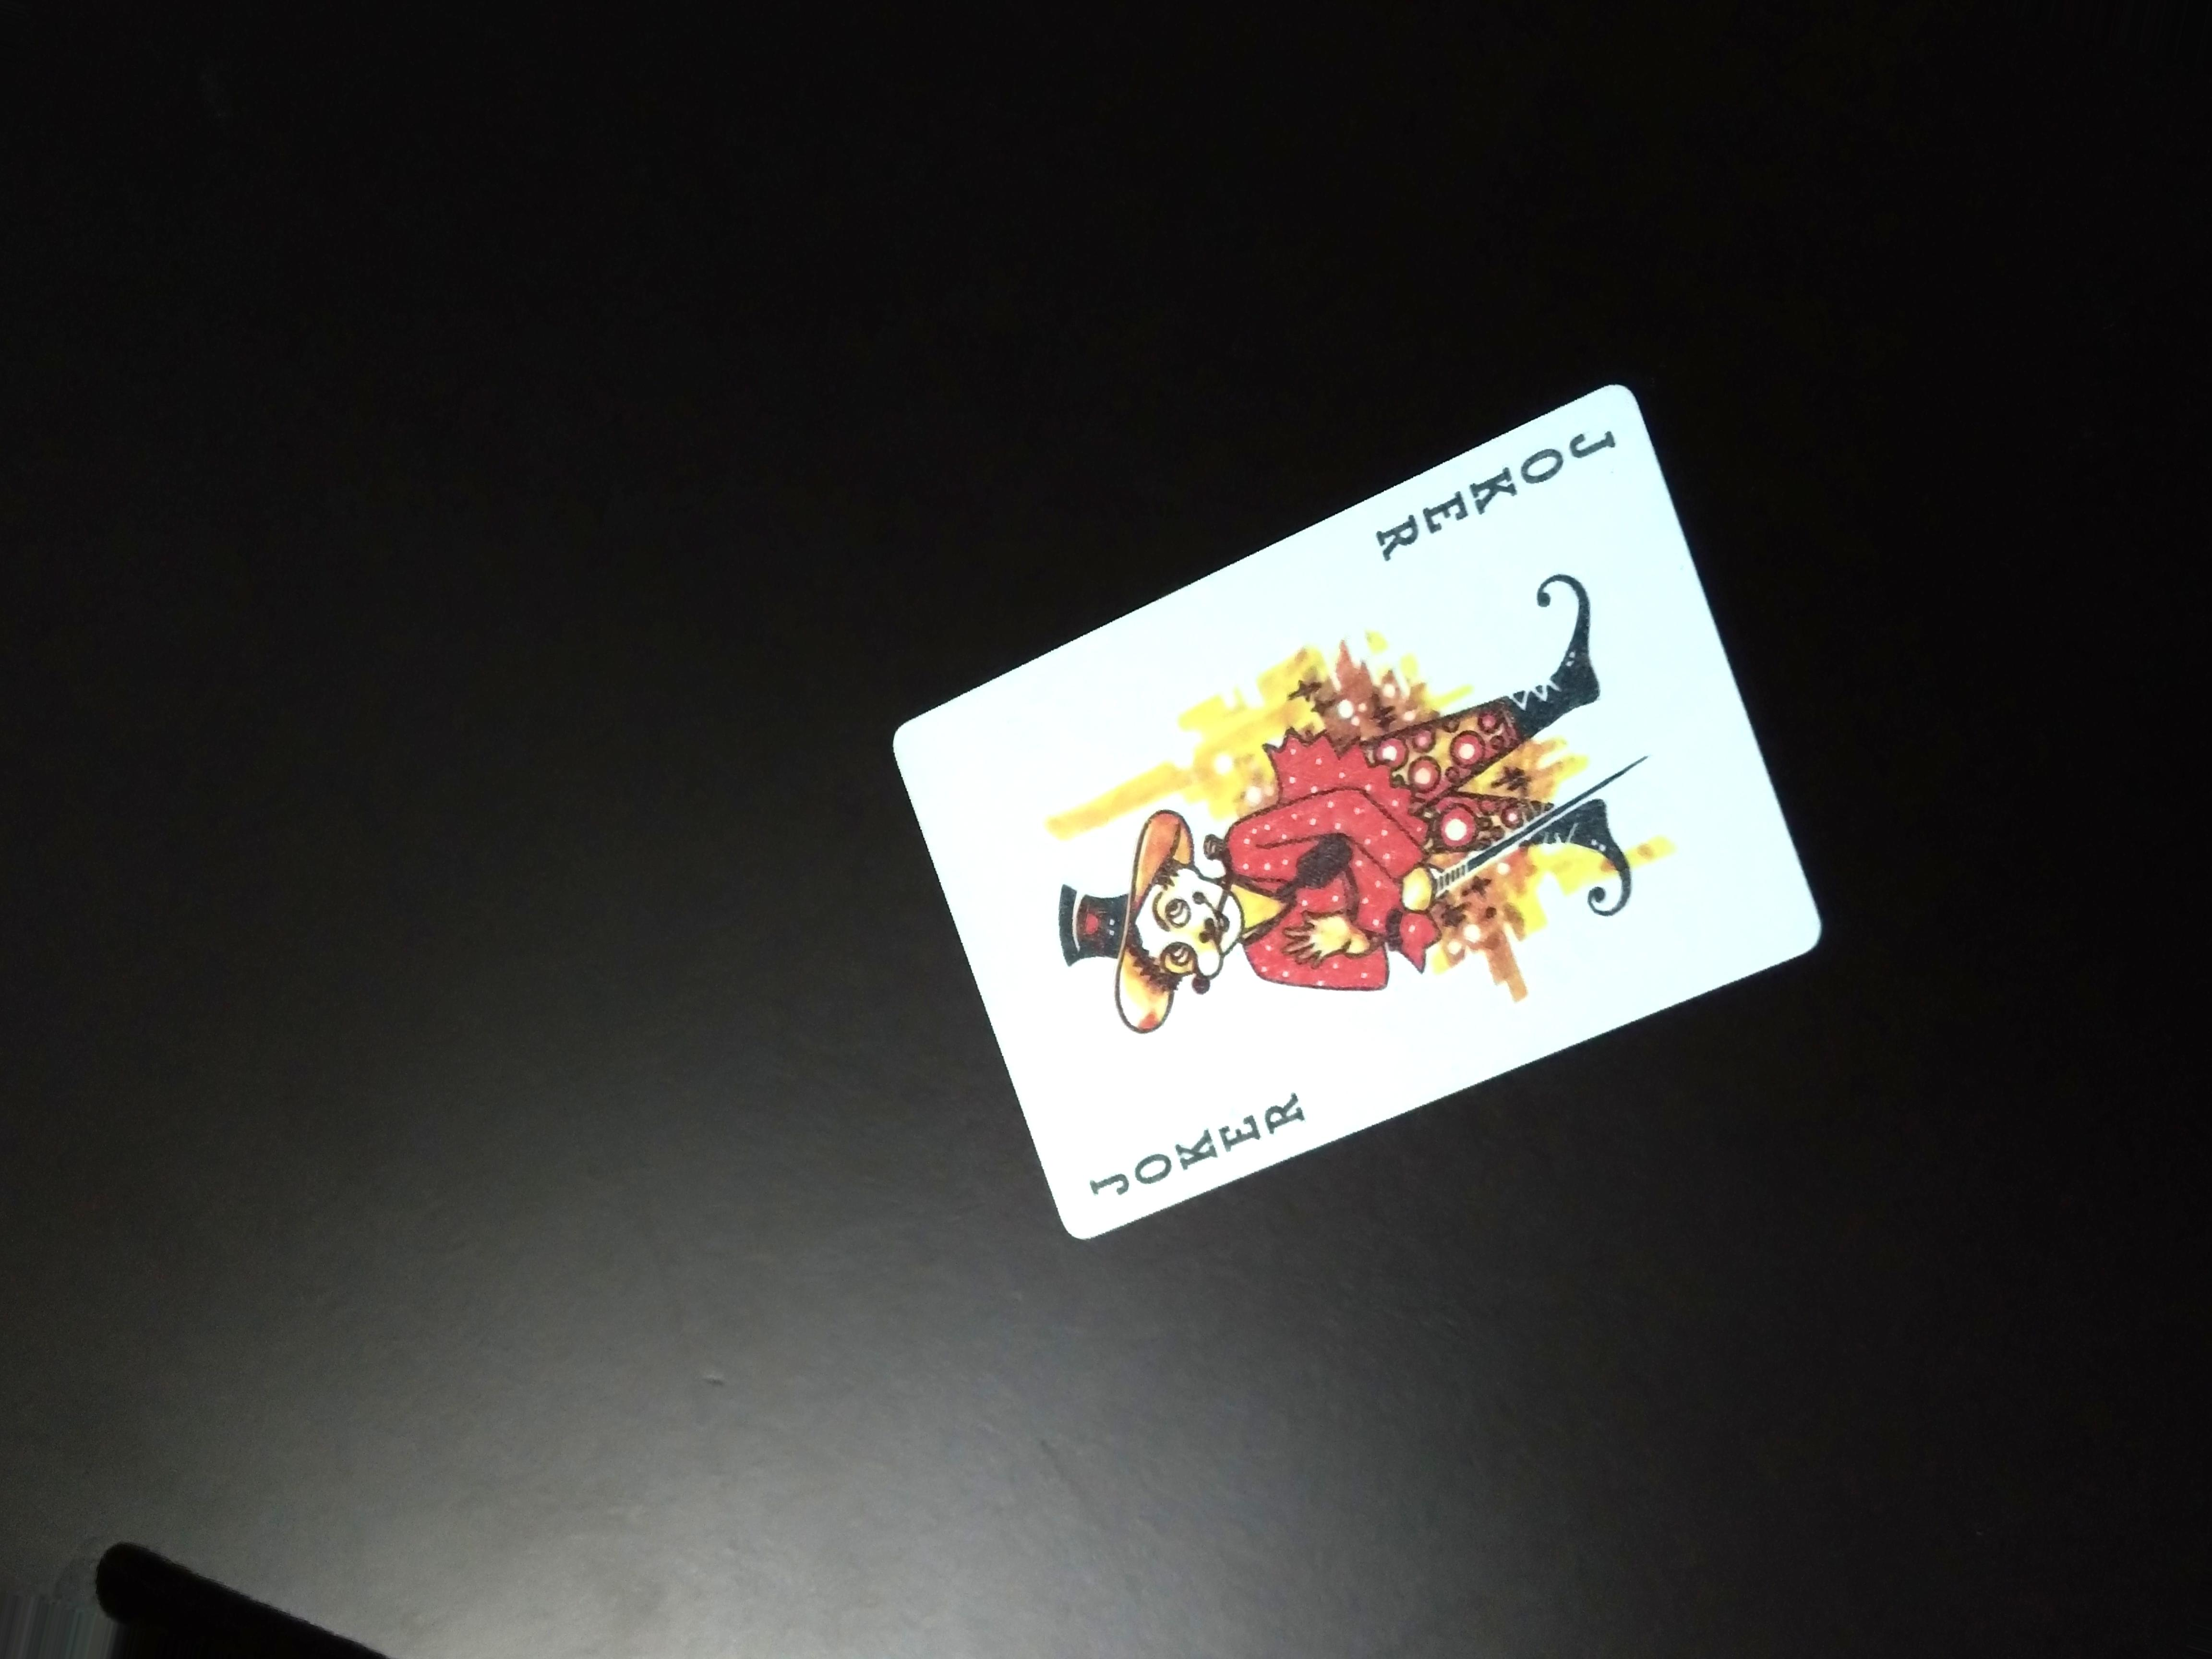JOKER: (1078, 1087, 1324, 1213)
